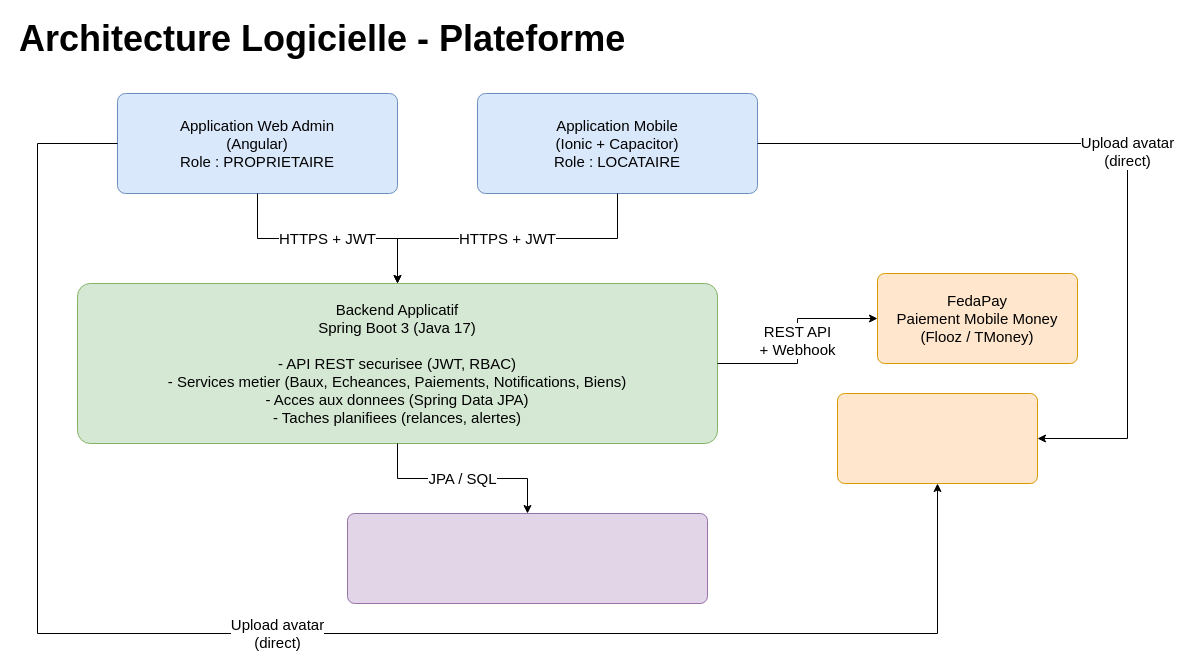
Some shapes in this 1191 by 669 pixel diagram are drawn without their labels. The shapes that lost their labels are listed below. From the top down, each one's box as (x1, y1, x2, y2) in pixels, then its label:
(836, 392, 1038, 484): Supabase Stockage des avatars
(346, 512, 708, 604): Base de donnees PostgreSQL
